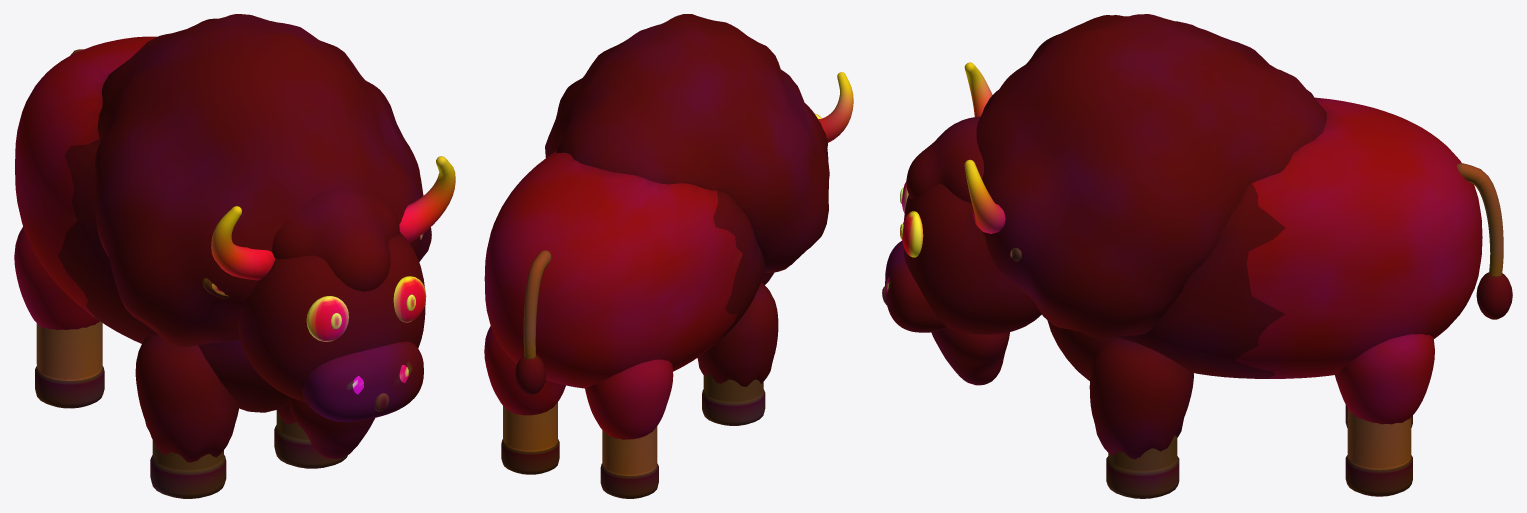
File: Bison.fbx
3 renders of one model, left to right at view 1: azimuth 30°, elevation 25°; view 2: azimuth 150°, elevation 25°; view 3: azimuth 270°, elevation 25°, orthographic. The views are drawn at different scales.
Visible parts, largest first — view 1: Body, Head, Leg_FR, Leg_BR, Tuft, Muzzle, Beard, Horn_R, Horn_L, Leg_FL, Eye_R, Eye_L; view 2: Body, Leg_BR, Leg_FR, Leg_BL, Tail, Horn_R; view 3: Body, Leg_FL, Head, Leg_BL, Tuft, Tail, Beard, Muzzle, Horn_L, Horn_R, Eye_L.
Part boxes in pixels (left/top/right/bottom): Body: left=15, top=14, right=431, bottom=412; Head: left=238, top=232, right=425, bottom=401; Leg_FR: left=135, top=335, right=239, bottom=498; Leg_BR: left=14, top=226, right=104, bottom=408; Tuft: left=272, top=188, right=399, bottom=291; Muzzle: left=302, top=341, right=423, bottom=421; Beard: left=289, top=397, right=374, bottom=458; Horn_R: left=211, top=206, right=275, bottom=280; Horn_L: left=399, top=156, right=455, bottom=242; Leg_FL: left=274, top=404, right=347, bottom=468; Eye_R: left=306, top=296, right=348, bottom=341; Eye_L: left=393, top=276, right=426, bottom=322; Body: left=484, top=14, right=829, bottom=388; Leg_BR: left=585, top=359, right=673, bottom=498; Leg_FR: left=697, top=282, right=778, bottom=425; Leg_BL: left=484, top=326, right=565, bottom=474; Tail: left=515, top=250, right=551, bottom=395; Horn_R: left=817, top=72, right=853, bottom=142; Body: left=976, top=14, right=1482, bottom=380; Leg_FL: left=1089, top=337, right=1193, bottom=498; Head: left=903, top=183, right=1041, bottom=334; Leg_BL: left=1335, top=334, right=1434, bottom=496; Tuft: left=906, top=116, right=983, bottom=203; Tail: left=1456, top=163, right=1512, bottom=319; Beard: left=931, top=327, right=1009, bottom=385; Muzzle: left=885, top=240, right=946, bottom=332; Horn_L: left=964, top=159, right=1005, bottom=233; Horn_R: left=964, top=62, right=992, bottom=116; Eye_L: left=902, top=211, right=923, bottom=257.
Bounding box in the file's own units: 1.09 × 1.58 × 2.08.
